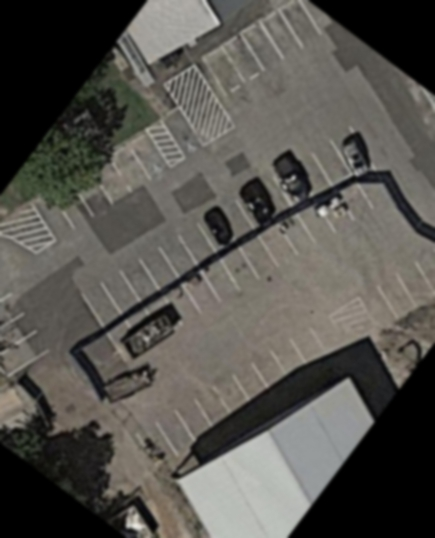parkingspot: (77, 125, 377, 332), (133, 323, 337, 474), (160, 203, 339, 329), (30, 130, 172, 245), (197, 0, 327, 103), (355, 246, 435, 336), (0, 270, 52, 380), (159, 106, 207, 162)
